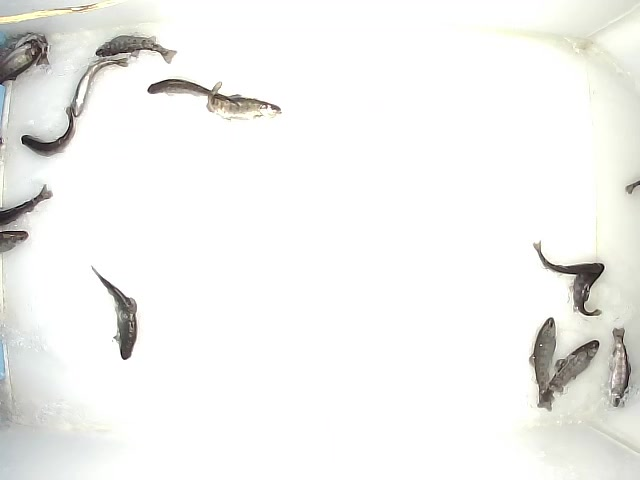fish: (89, 263, 139, 362), (542, 338, 600, 404), (71, 57, 130, 119), (205, 81, 283, 121), (20, 106, 77, 158), (528, 317, 558, 413), (147, 78, 241, 108), (95, 33, 178, 66), (532, 239, 606, 275), (606, 326, 632, 409), (572, 262, 606, 318)
